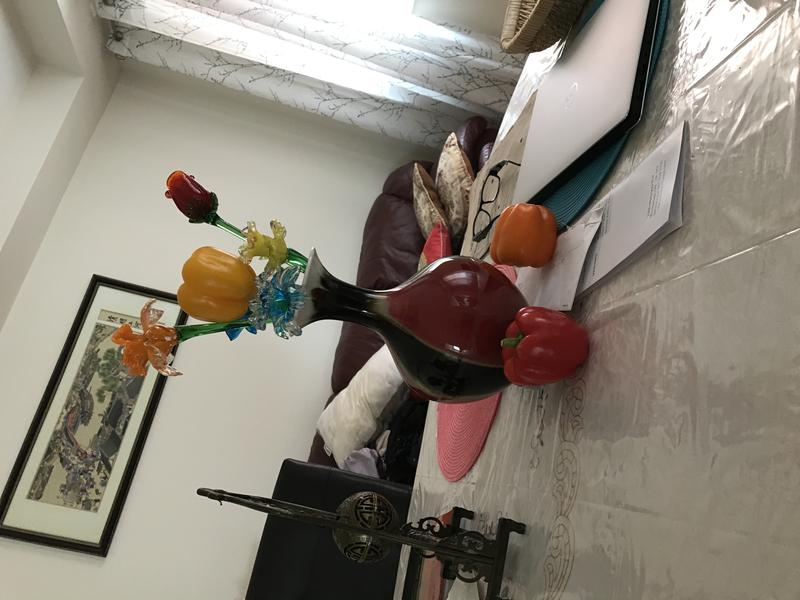orange_pepper: (486, 196, 561, 275)
red_pepper: (491, 302, 594, 386)
yellow_pepper: (171, 234, 258, 330)
